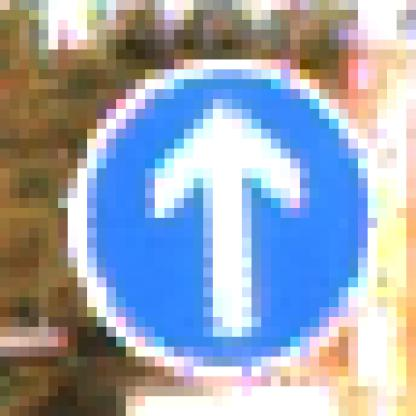AheadOnly: (59, 51, 369, 368)
